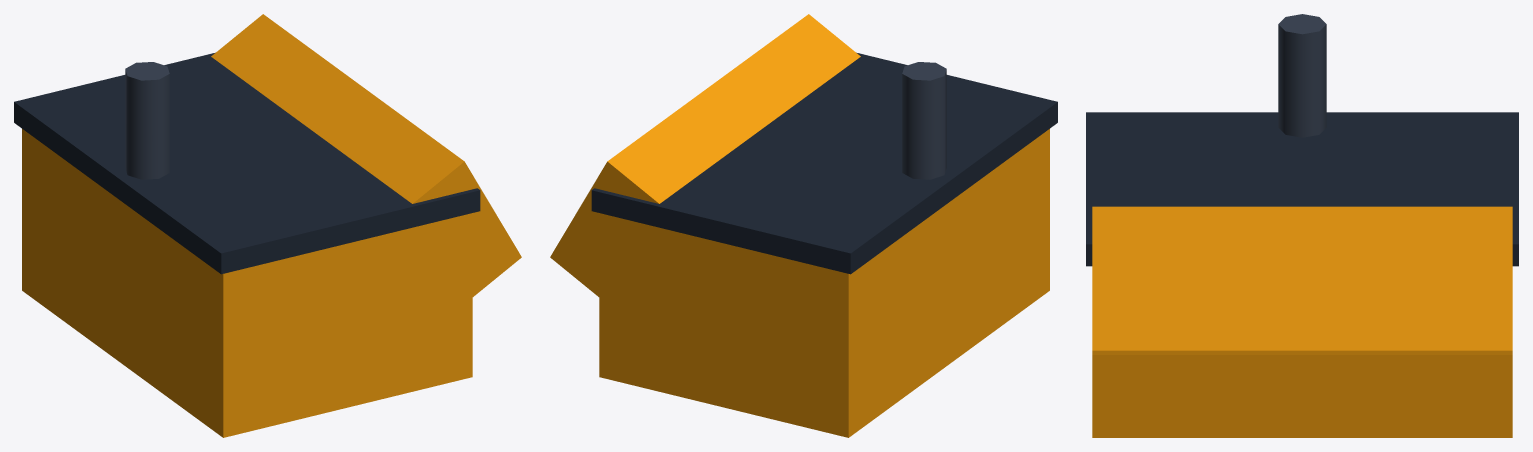
The model's file is wheel-chock-body-authored-atlas.glb.
3 views of the same model, side by side, from view 1: azimuth 30°, elevation 25°; view 2: azimuth 150°, elevation 25°; view 3: azimuth 270°, elevation 25° (orthographic). The views are drawn at different scales.
Parts seen in each view (by area): view 1: Authored surface.020; view 2: Authored surface.020; view 3: Authored surface.020.
Boxes of the visible parts, <box> form: Authored surface.020: <box>14,14,521,437</box>; Authored surface.020: <box>550,14,1057,437</box>; Authored surface.020: <box>1086,14,1518,437</box>.
Size of the model in its own units: 0.3046 by 0.275 by 0.36.
1 material, 1 textured.
